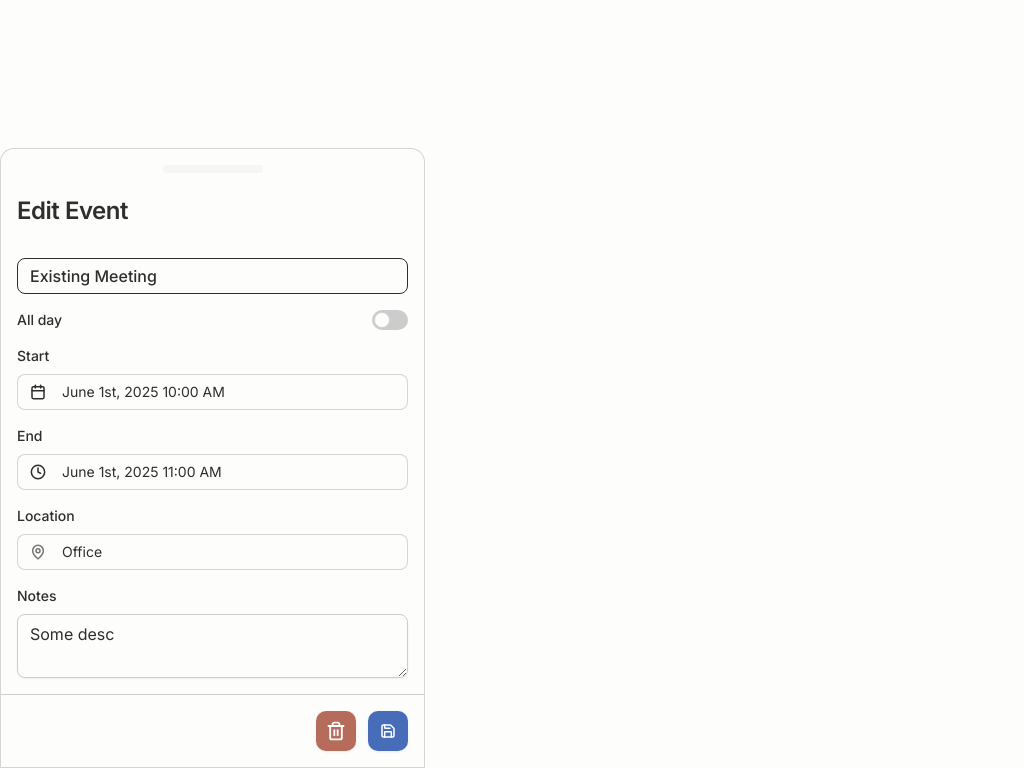
Test case: CreateEventDialog — button activation (edit mode) › [P10] save button re-disables if title is cleared in edit mode
Expected: the button named "save changes" is enabled, [368,711,408,751]
Note: title is cleared
Clear the field showing "Existing Meeting" at (212, 276), box [17,258,408,294]
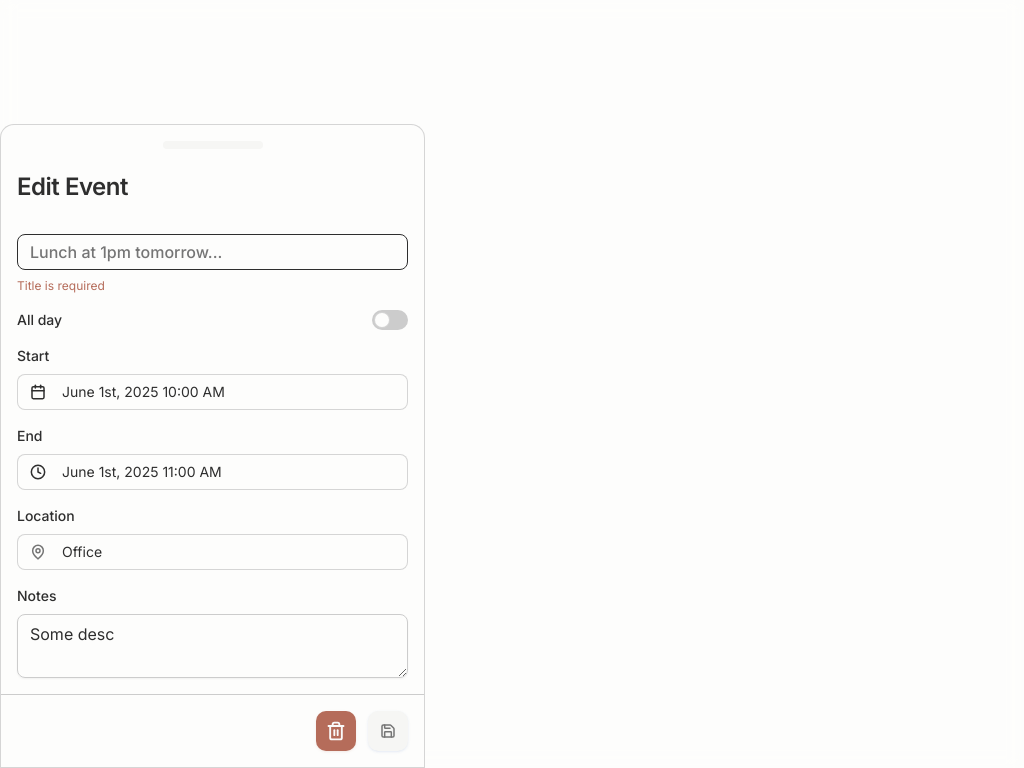
Now the button named "save changes" is disabled, box [368,711,408,751]
